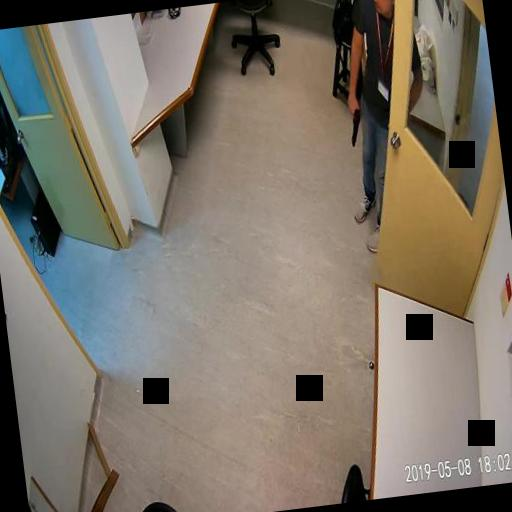Handgun: (346, 104, 362, 146)
